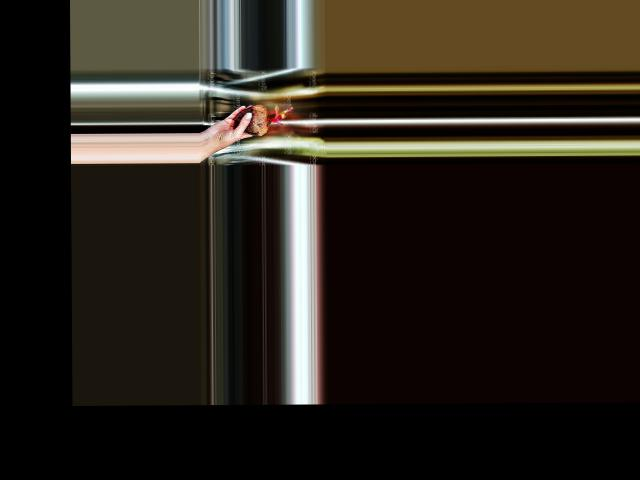beet: (234, 104, 292, 135)
